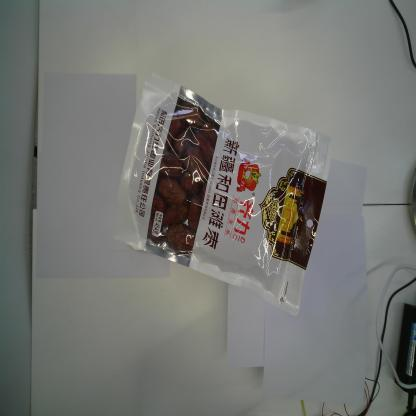Dried Food: (110, 67, 336, 320)
